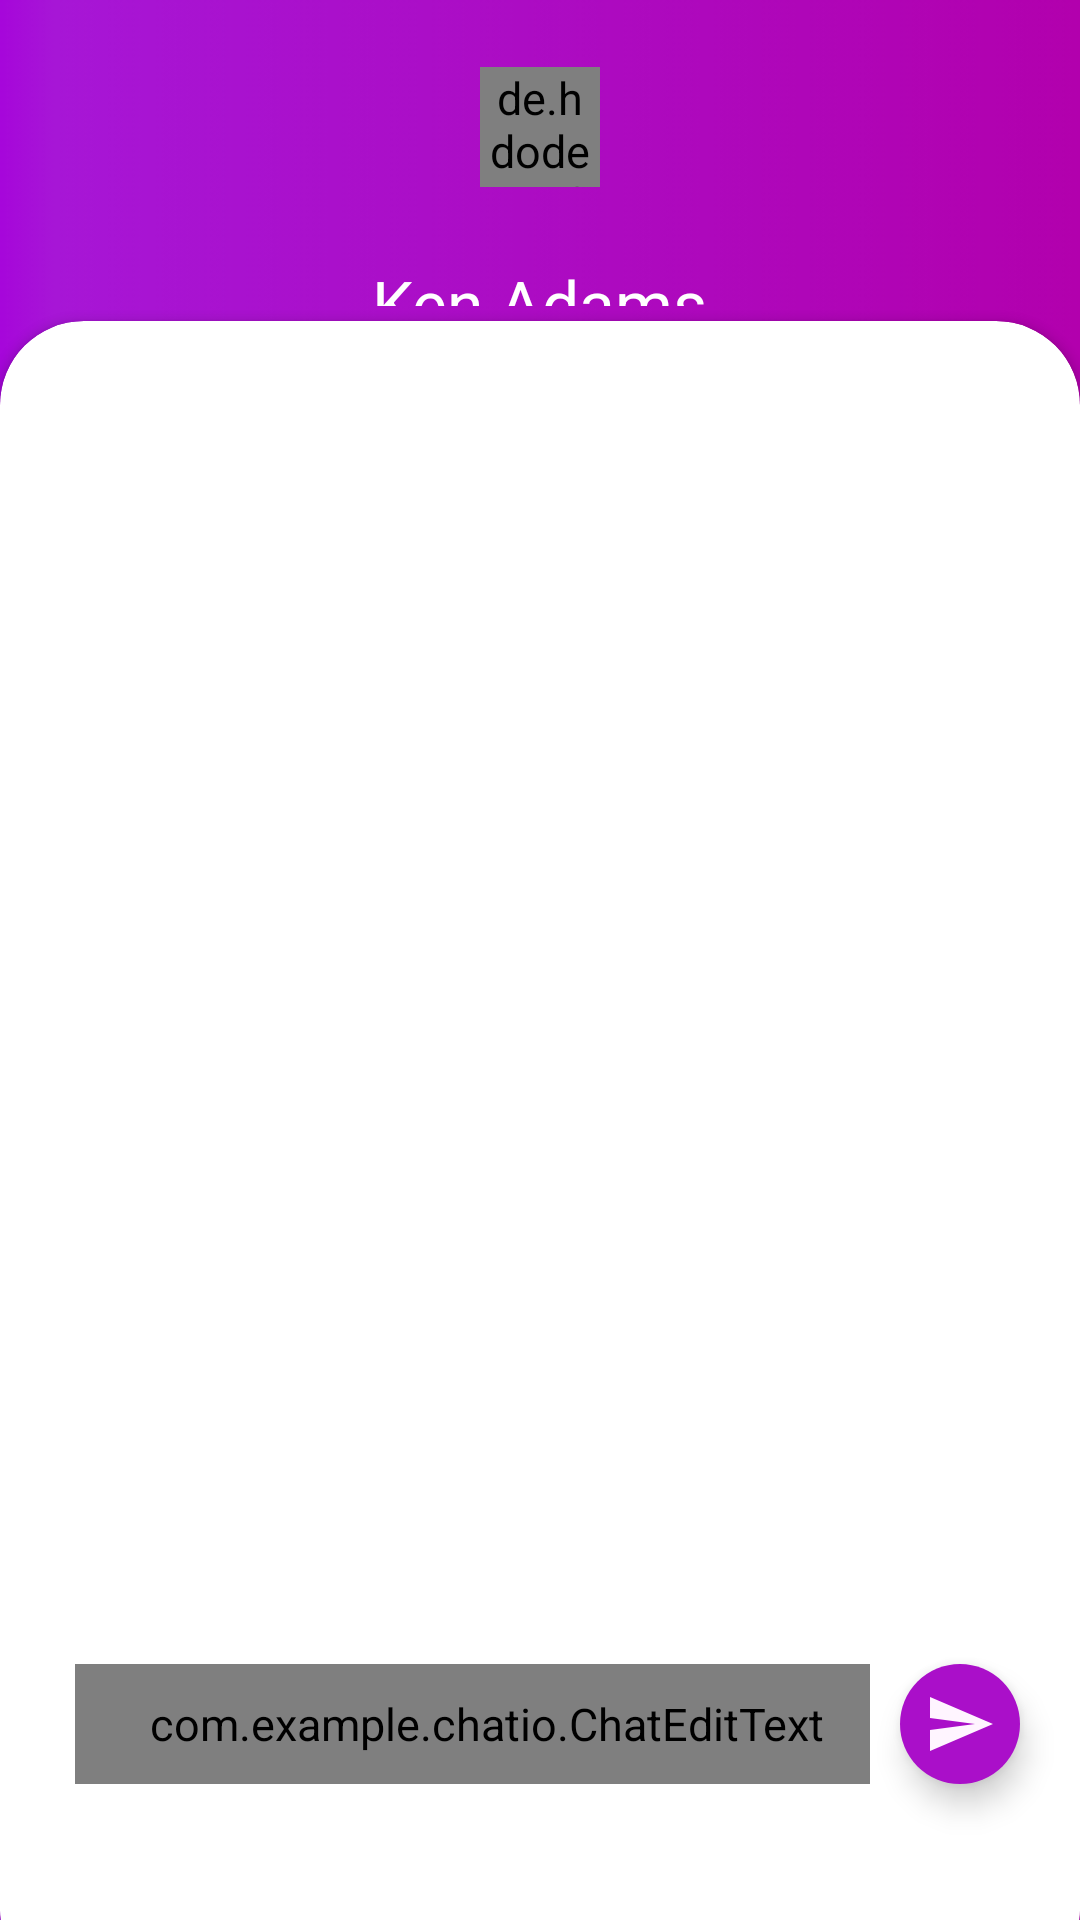

Screen size 1080x1920. Icon name, then its box in pixels as [x1=x1, y1=y1, x2=x2, y2=y2]:
send: [x1=900, y1=1664, x2=1020, y2=1784]
